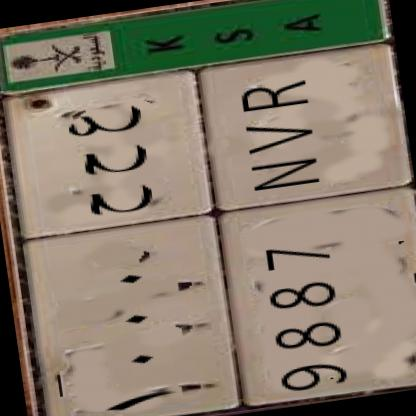english: (212, 63, 404, 405)
